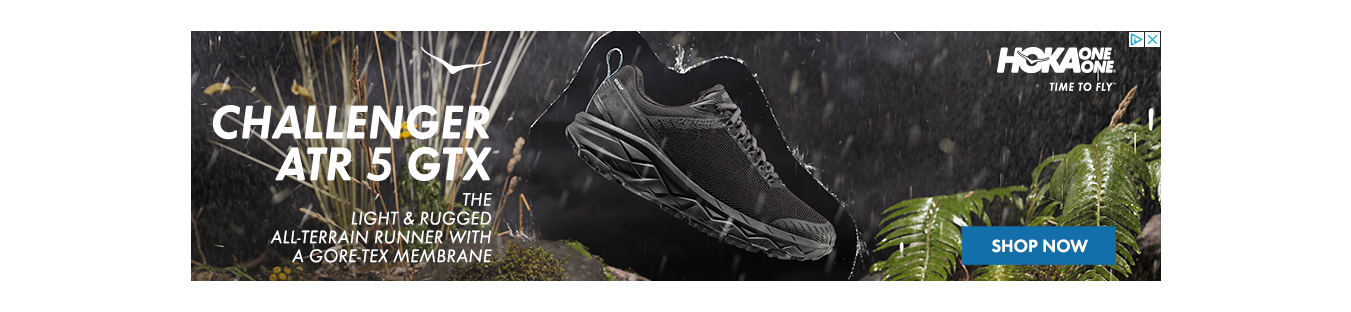fake_button: (945, 219, 1130, 281)
